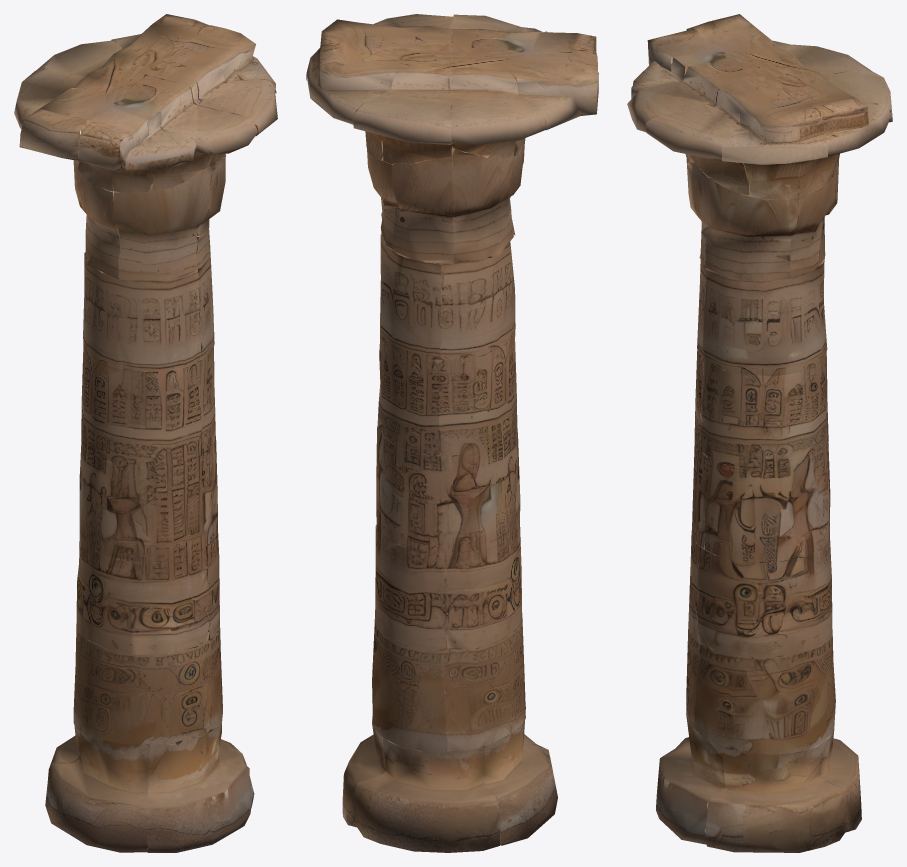
Rendered from Obleisk.fbx.
3 views of the same model, side by side, from view 1: azimuth 30°, elevation 25°; view 2: azimuth 150°, elevation 25°; view 3: azimuth 270°, elevation 25° (orthographic). The views are drawn at different scales.
Visible parts, largest first — view 1: tripo_node_cd491ec5-fb23-46ed-ba43-5ae893b73d8c.001; view 2: tripo_node_cd491ec5-fb23-46ed-ba43-5ae893b73d8c.001; view 3: tripo_node_cd491ec5-fb23-46ed-ba43-5ae893b73d8c.001.
Boxes of the visible parts, x1,y1,x2,y2 form: tripo_node_cd491ec5-fb23-46ed-ba43-5ae893b73d8c.001: (14, 14, 277, 852); tripo_node_cd491ec5-fb23-46ed-ba43-5ae893b73d8c.001: (306, 14, 598, 852); tripo_node_cd491ec5-fb23-46ed-ba43-5ae893b73d8c.001: (627, 14, 892, 852).
Bounding box in the file's own units: 35.53 × 99.98 × 32.32.
Materials: 1 (1 with a texture image).
